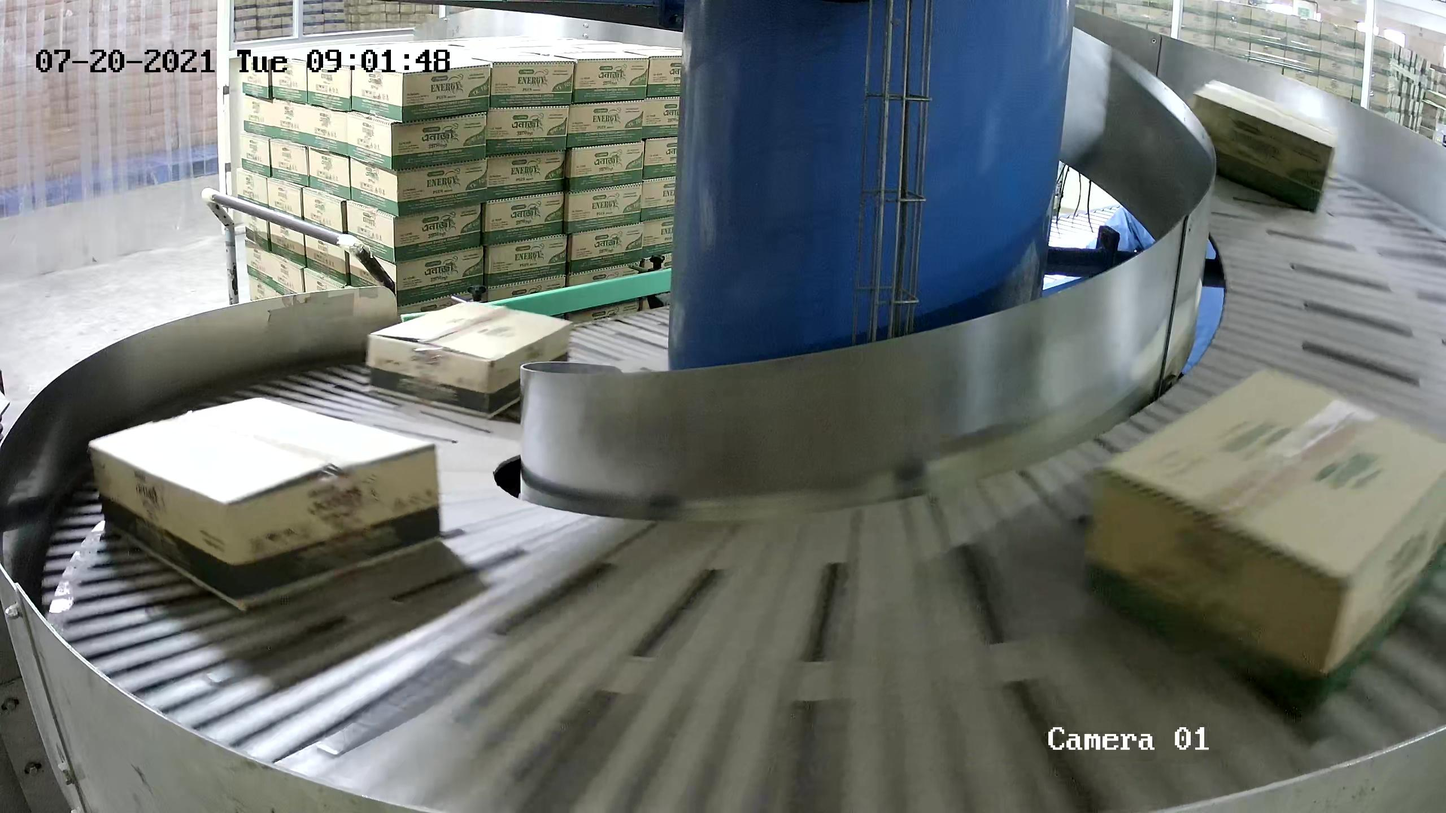Box: (1079, 363, 1446, 719), (87, 395, 443, 612), (365, 301, 573, 419), (1191, 78, 1338, 214)
